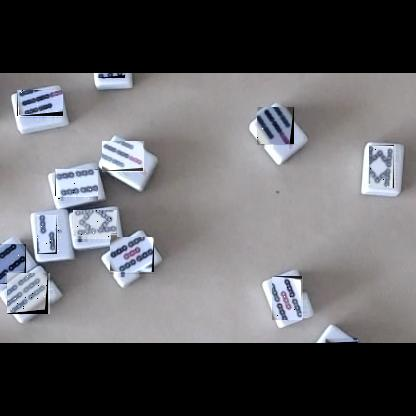2s: (325, 338, 358, 343)
3s: (38, 215, 62, 254)
4s: (55, 170, 98, 201), (0, 244, 26, 284)
5s: (110, 238, 154, 277), (273, 276, 307, 320)
6s: (8, 273, 53, 314), (98, 73, 125, 78)
7s: (103, 142, 148, 176), (257, 108, 294, 149), (17, 91, 63, 121)
8s: (73, 211, 117, 242), (370, 145, 399, 188)
